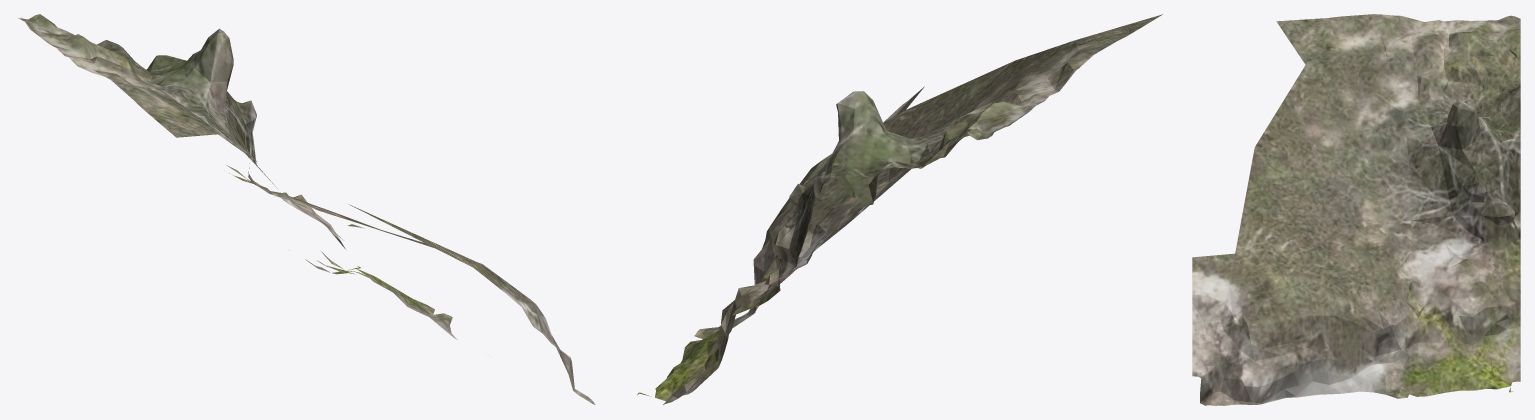
The picture shows the model from 3 angles, left to right: view 1: azimuth 30°, elevation 25°; view 2: azimuth 150°, elevation 25°; view 3: azimuth 270°, elevation 25°; orthographic projection. The views are drawn at different scales.
Bounding box in the file's own units: 5.9 × 5.02 × 5.9.
Materials: 3 (3 with a texture image).
